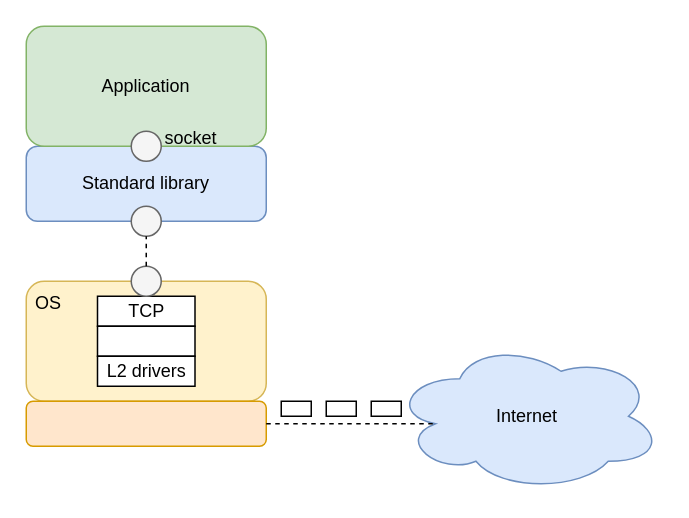
This 689x518 diagram has some shape labels left out. Here are the shapes that lost their labels. From the top down, the centre of each, then its label:
At (145,340): "IP".
At (145,423): "Network device".
